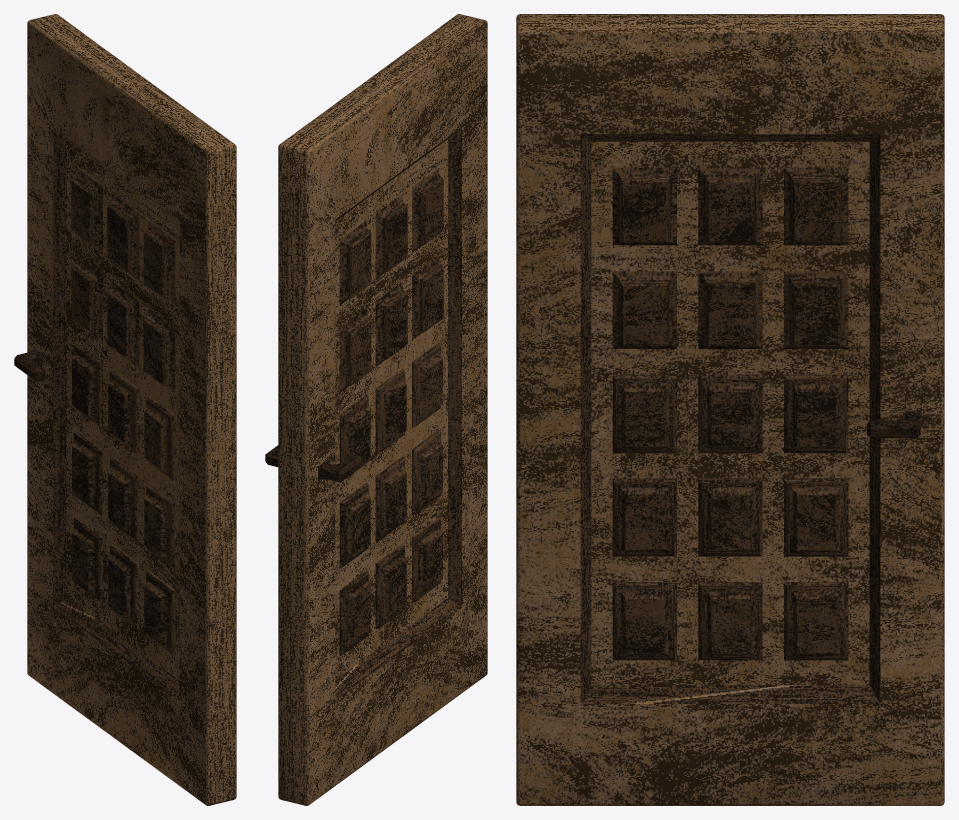
The model's file is Vico_Object_Door.fbx.
3 renders of one model, left to right at view 1: azimuth 30°, elevation 25°; view 2: azimuth 150°, elevation 25°; view 3: azimuth 270°, elevation 25°, orthographic. The views are drawn at different scales.
Visible parts, largest first — view 1: Door; view 2: Door; view 3: Door.
Part boxes in pixels (<box>): Door: <box>14,14,236,805</box>; Door: <box>265,14,487,805</box>; Door: <box>516,14,944,805</box>.
Bounding box in the file's own units: 25 × 200 × 100.
